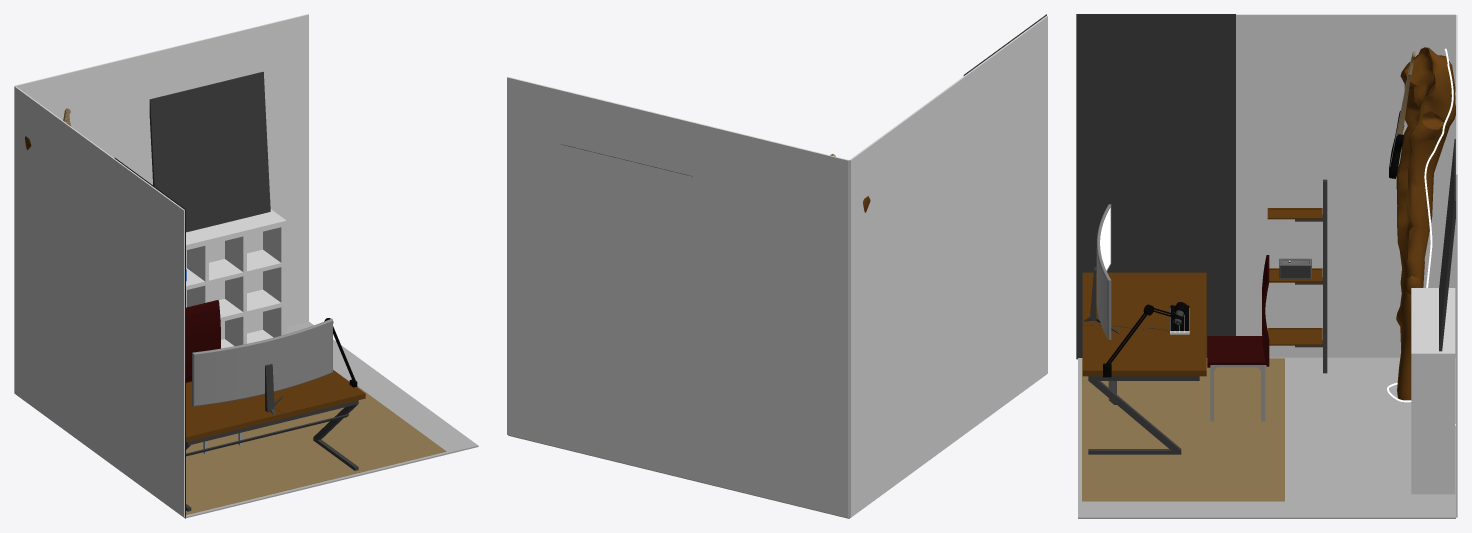
File: Seblive2.1.gltf
3 views of the same model, side by side, from view 1: azimuth 30°, elevation 25°; view 2: azimuth 150°, elevation 25°; view 3: azimuth 270°, elevation 25° (orthographic). The views are drawn at different scales.
Visible parts, largest first — view 1: Cube.002, Cube.001, Black board, Carpet, Ikea, Screen frame, Desk wood, Cube, Desk frame, Cube.019; view 2: Cube.001, Cube.002; view 3: Cube.002, Black board tall, Cube, Carpet, Desk wood, Buche, Ikea, Shelve board, Desk frame, Cube.018, Black board, Screen frame (+8 smaller).
Boxes of the visible parts, bbox=[...] form: Cube.002: bbox=[14, 86, 184, 517]; Cube.001: bbox=[15, 14, 308, 326]; Black board: bbox=[149, 72, 270, 232]; Carpet: bbox=[186, 386, 446, 514]; Ikea: bbox=[186, 209, 286, 348]; Screen frame: bbox=[192, 318, 332, 406]; Desk wood: bbox=[186, 370, 365, 442]; Cube: bbox=[184, 321, 478, 518]; Desk frame: bbox=[186, 400, 358, 511]; Cube.019: bbox=[186, 300, 220, 381]; Cube.001: bbox=[507, 77, 849, 517]; Cube.002: bbox=[849, 16, 1047, 517]; Cube.002: bbox=[1236, 14, 1455, 357]; Black board tall: bbox=[1076, 14, 1235, 359]; Cube: bbox=[1078, 357, 1455, 518]; Carpet: bbox=[1082, 358, 1284, 501]; Desk wood: bbox=[1082, 272, 1206, 376]; Buche: bbox=[1396, 47, 1455, 400]; Ikea: bbox=[1411, 288, 1455, 494]; Shelve board: bbox=[1267, 208, 1322, 345]; Desk frame: bbox=[1088, 376, 1199, 454]; Cube.018: bbox=[1207, 336, 1265, 367]; Black board: bbox=[1439, 139, 1455, 351]; Screen frame: bbox=[1096, 204, 1111, 339].
Size of the model in its own units: 48.01 by 49.14 by 48.09.
